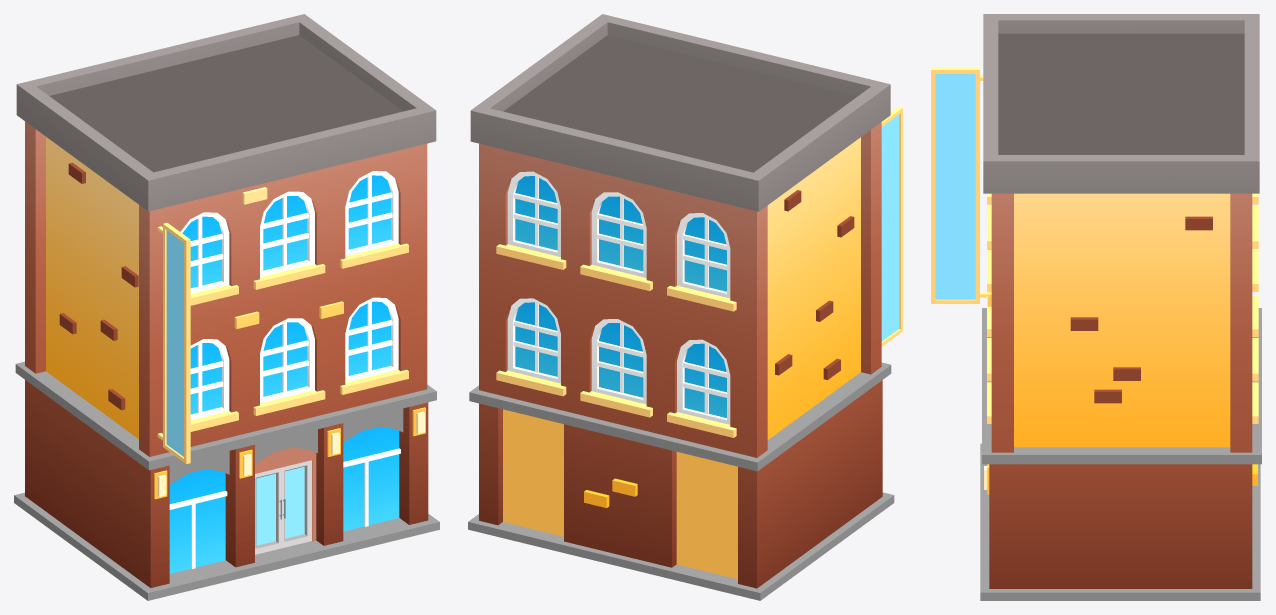
File: city2-building-hotel-01.glb
3 views of the same model, side by side, from view 1: azimuth 30°, elevation 25°; view 2: azimuth 150°, elevation 25°; view 3: azimuth 270°, elevation 25° (orthographic). The views are drawn at different scales.
Visible parts, largest first — view 1: Building_Hotel_01; view 2: Building_Hotel_01; view 3: Building_Hotel_01.
Part boxes in pixels (<box>): Building_Hotel_01: <box>14,14,439,600</box>; Building_Hotel_01: <box>468,14,902,600</box>; Building_Hotel_01: <box>931,14,1261,600</box>.
Size of the model in its own units: 8.22 by 11.26 by 7.7.
Materials: 1 (1 with a texture image).
